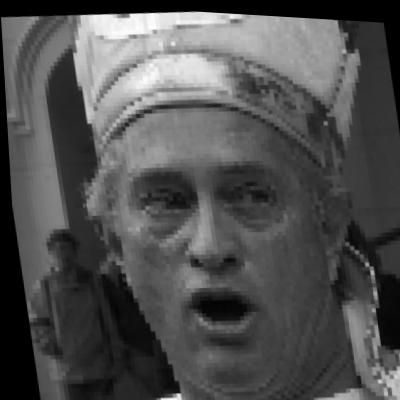surprise: (101, 87, 340, 397)
